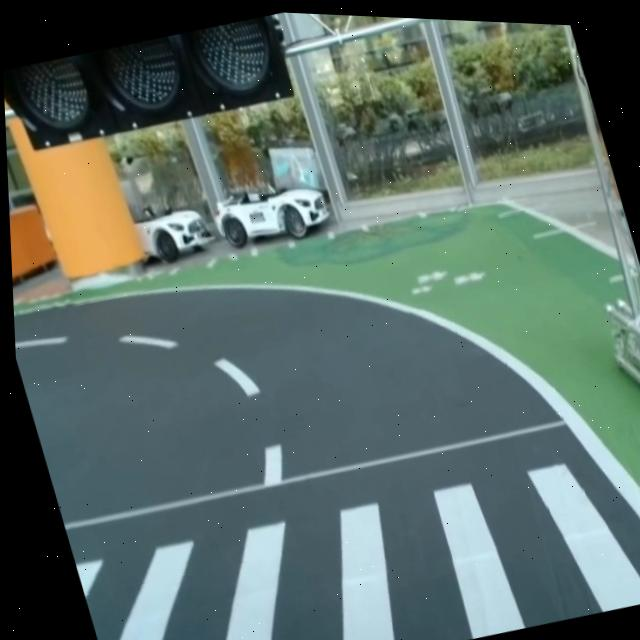traffic-light: (0, 0, 304, 167)
